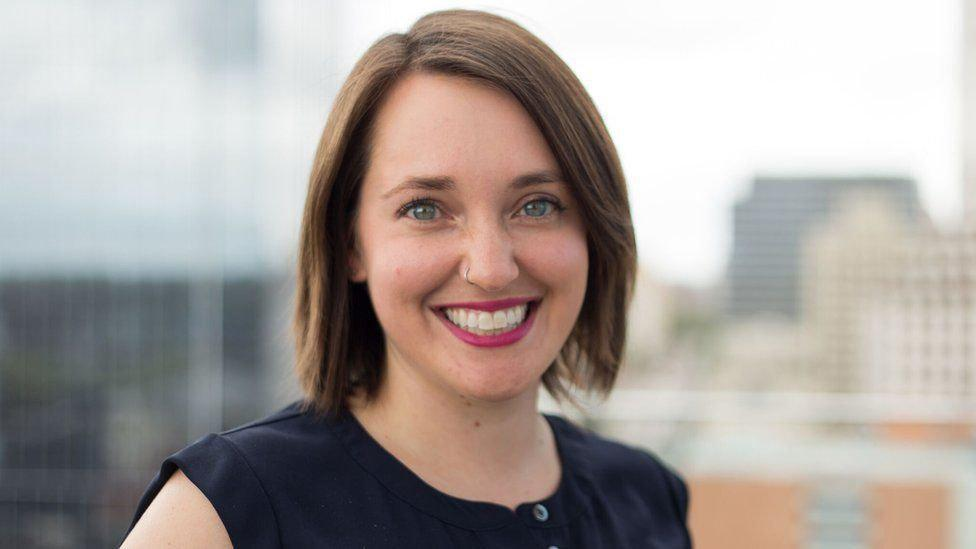Sober: (382, 95, 578, 387)
